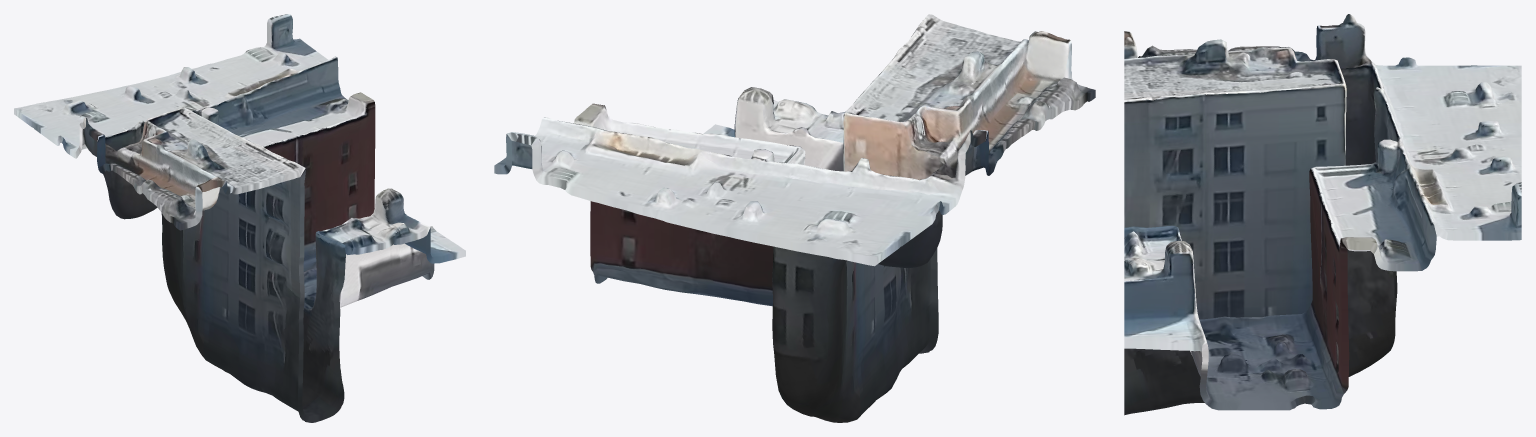
Rendered from z20-167755-405243-h0-yup-uvflip-v3-world.glb.
The picture shows the model from 3 angles, left to right: view 1: azimuth 30°, elevation 25°; view 2: azimuth 150°, elevation 25°; view 3: azimuth 270°, elevation 25°; orthographic projection. The views are drawn at different scales.
Size of the model in its own units: 30.16 by 27.56 by 30.32.
1 material, 1 textured.
